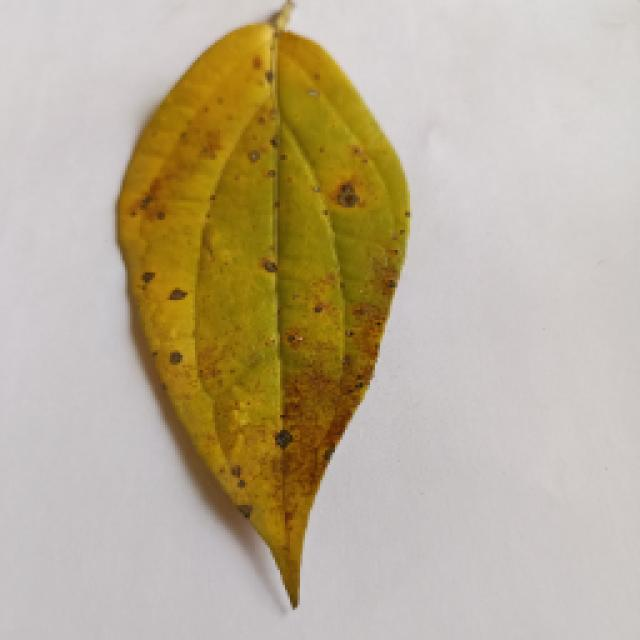slow-decline: (72, 15, 450, 613)
